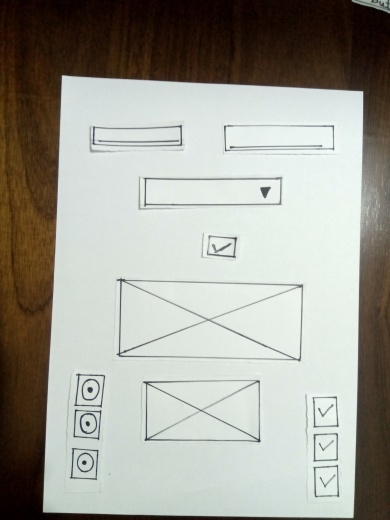checkbox: (314, 466, 341, 499), (311, 397, 339, 425), (312, 434, 341, 460), (202, 236, 238, 256)
dropdown: (141, 176, 281, 209)
img: (117, 281, 300, 360), (142, 379, 262, 440)
radio: (73, 449, 99, 480), (79, 374, 104, 405), (77, 411, 98, 441)
text: (224, 125, 334, 150), (91, 125, 184, 149)
